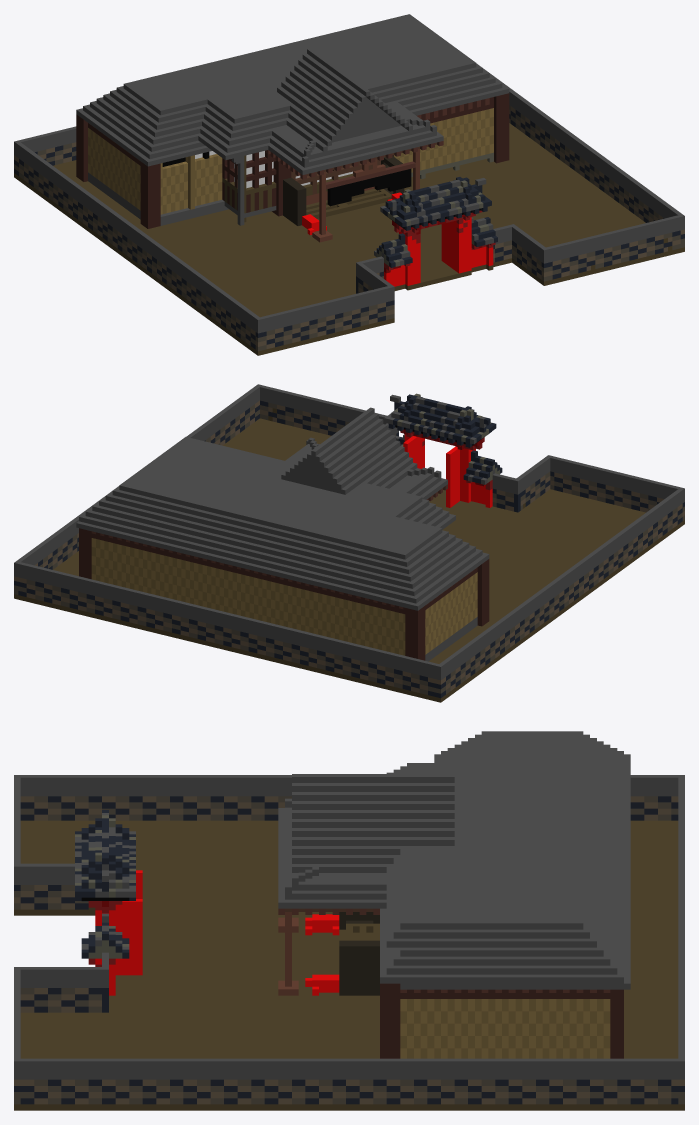
Rendered from senganen.glb.
3 views of the same model, one above another, from view 1: azimuth 30°, elevation 25°; view 2: azimuth 150°, elevation 25°; view 3: azimuth 270°, elevation 25° (orthographic). The views are drawn at different scales.
Visible parts, largest first — view 1: Untitled; view 2: Untitled; view 3: Untitled.
Part boxes in pixels (left/top/right/bottom): Untitled: left=14, top=14, right=684, bottom=355; Untitled: left=14, top=384, right=684, bottom=702; Untitled: left=14, top=731, right=684, bottom=1110.
Size of the model in its own units: 2 by 0.62 by 1.98.
Materials: 1 (1 with a texture image).
